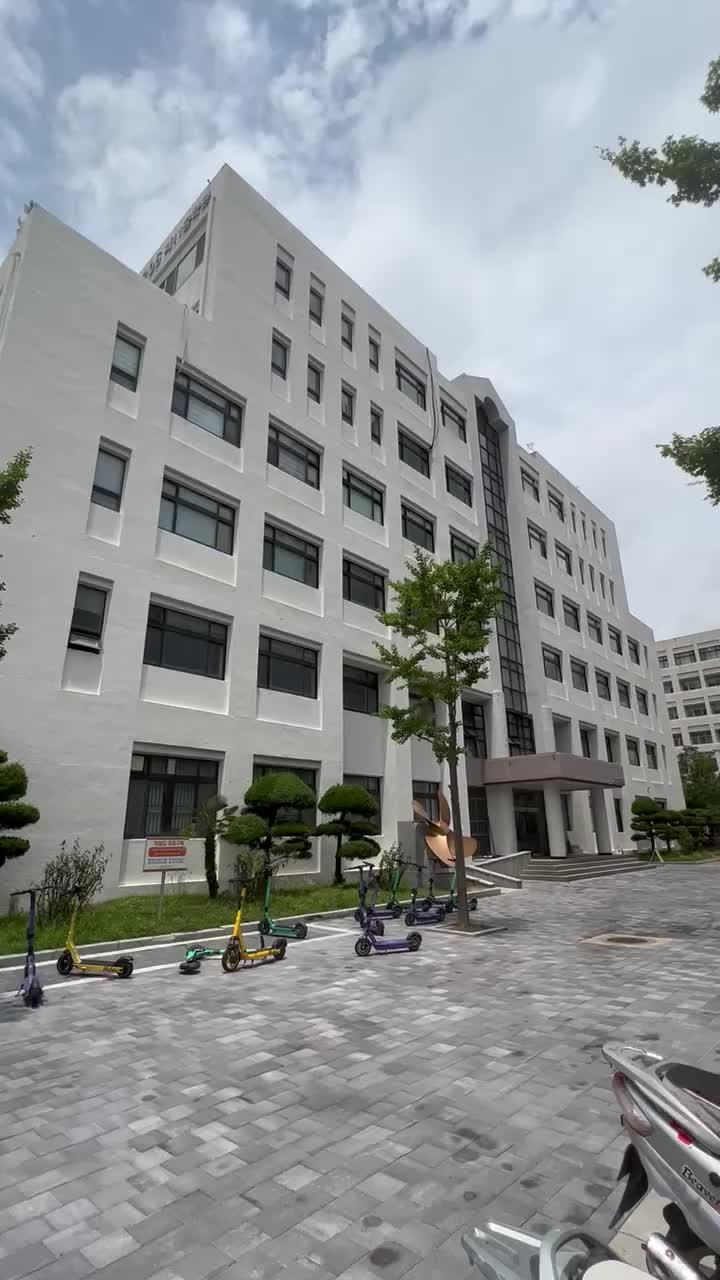building: (20, 186, 694, 864)
